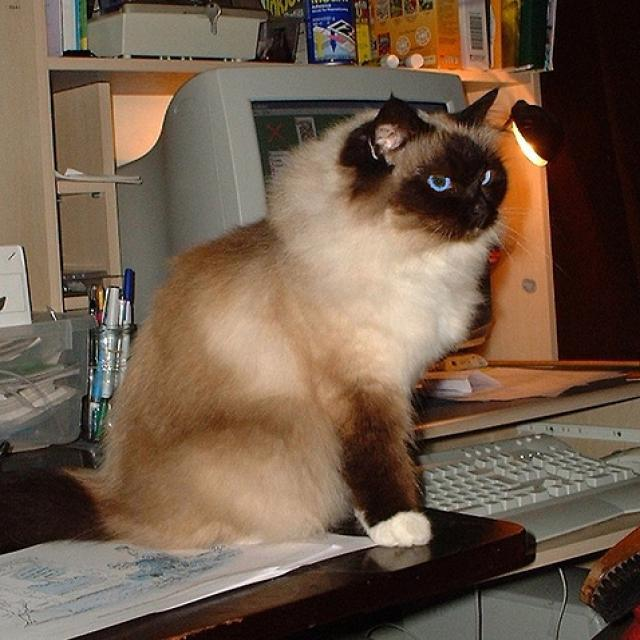Birman: (266, 73, 529, 345)
